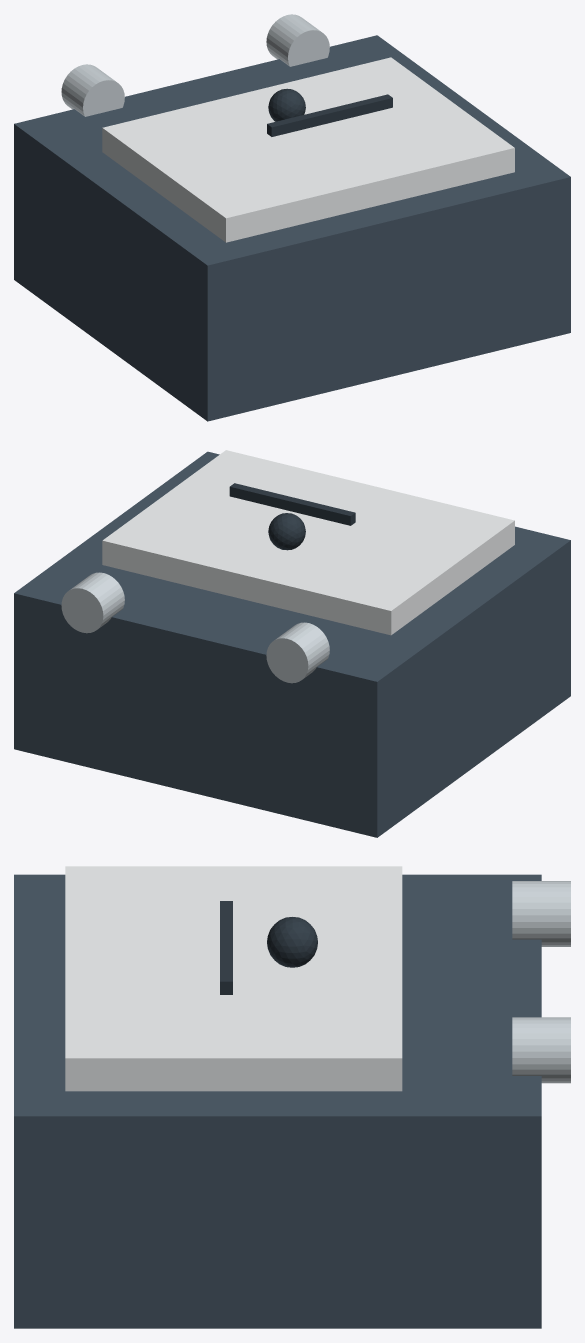
Rendered from ammeter.glb.
3 renders of one model, top to bottom at view 1: azimuth 30°, elevation 25°; view 2: azimuth 150°, elevation 25°; view 3: azimuth 270°, elevation 25°, orthographic. The views are drawn at different scales.
Parts seen in each view (by area): view 1: ammeter_0, ammeter_1, ammeter_4, ammeter_5, ammeter_3, ammeter_2; view 2: ammeter_0, ammeter_1, ammeter_4, ammeter_5, ammeter_3, ammeter_2; view 3: ammeter_0, ammeter_1, ammeter_5, ammeter_4, ammeter_2, ammeter_3.
Boxes of the visible parts, x1=… form: ammeter_0: x1=14, y1=35, x2=570, y2=421; ammeter_1: x1=102, y1=57, x2=514, y2=242; ammeter_4: x1=61, y1=64, x2=124, y2=116; ammeter_5: x1=266, y1=14, x2=329, y2=66; ammeter_3: x1=267, y1=94, x2=392, y2=136; ammeter_2: x1=268, y1=88, x2=305, y2=121; ammeter_0: x1=14, y1=451, x2=570, y2=837; ammeter_1: x1=102, y1=450, x2=514, y2=635; ammeter_4: x1=266, y1=622, x2=329, y2=683; ammeter_5: x1=61, y1=572, x2=124, y2=633; ammeter_3: x1=229, y1=483, x2=355, y2=525; ammeter_2: x1=268, y1=513, x2=305, y2=550; ammeter_0: x1=14, y1=874, x2=541, y2=1328; ammeter_1: x1=65, y1=866, x2=402, y2=1091; ammeter_5: x1=512, y1=1017, x2=570, y2=1083; ammeter_4: x1=512, y1=881, x2=570, y2=946; ammeter_2: x1=267, y1=917, x2=317, y2=967; ammeter_3: x1=220, y1=901, x2=232, y2=994.
Bounding box in the file's own units: 0.78 × 0.435 × 0.76.
